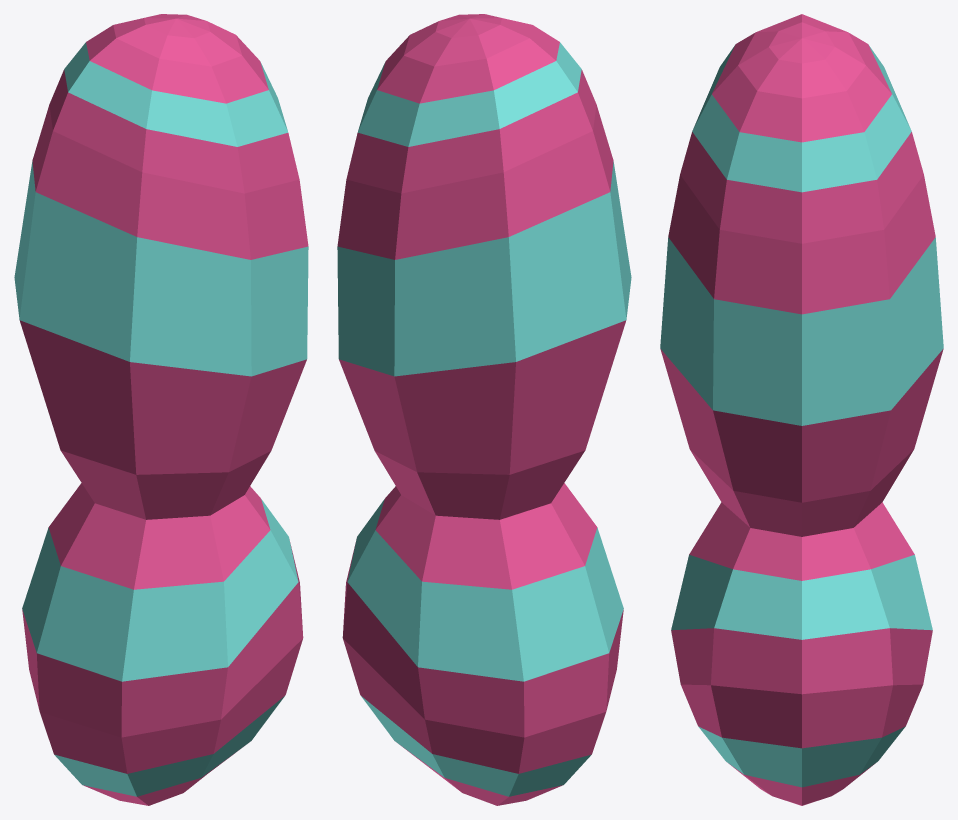
The model's file is pickaxe_seed.glb.
3 renders of one model, left to right at view 1: azimuth 30°, elevation 25°; view 2: azimuth 150°, elevation 25°; view 3: azimuth 270°, elevation 25°, orthographic.
Parts seen in each view (by area): view 1: seme3; view 2: seme3; view 3: seme3.
Boxes of the visible parts, x1,y1,x2,y2 form: seme3: (14, 14, 308, 805); seme3: (337, 14, 631, 805); seme3: (660, 14, 943, 805).
Size of the model in its own units: 0.7833 by 2.07 by 0.6848.
